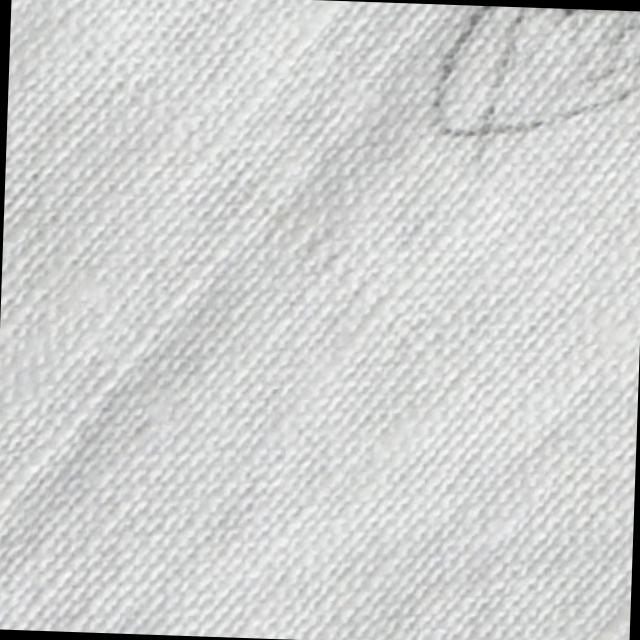Stain: (427, 3, 640, 157)
